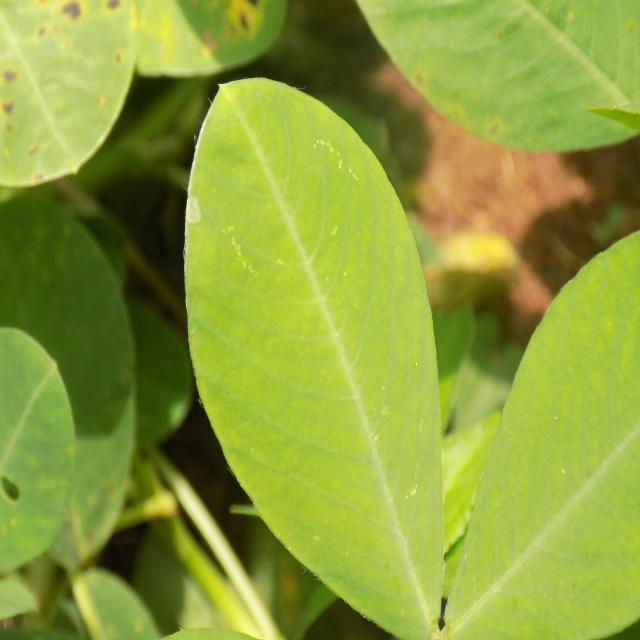Ground nut_healthy: (188, 81, 449, 640)
